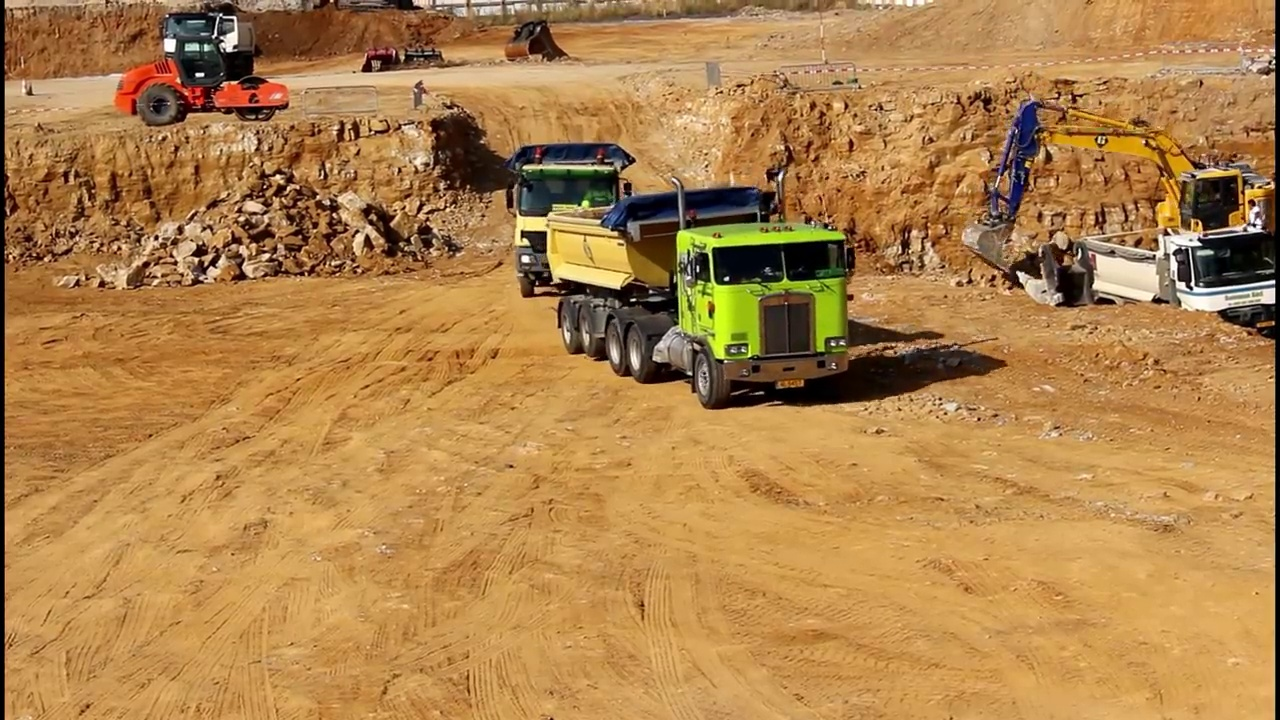compactor: (111, 37, 291, 123)
excavator: (960, 96, 1280, 291)
truck: (540, 172, 870, 412), (1068, 212, 1280, 360), (505, 131, 642, 302), (159, 5, 266, 90)
worker: (1234, 196, 1271, 244)
